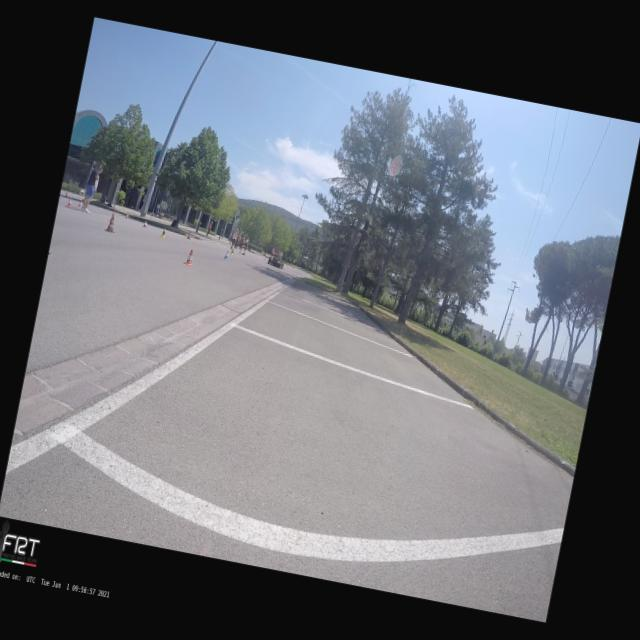blue_cone: (223, 250, 230, 260)
large_orange_cone: (104, 216, 118, 233), (186, 232, 192, 240)
orange_cone: (183, 249, 196, 267), (66, 196, 74, 208), (108, 212, 116, 222), (142, 220, 148, 228), (78, 200, 83, 208), (125, 213, 130, 219)
yellow_cone: (160, 228, 168, 238), (230, 248, 234, 255)
